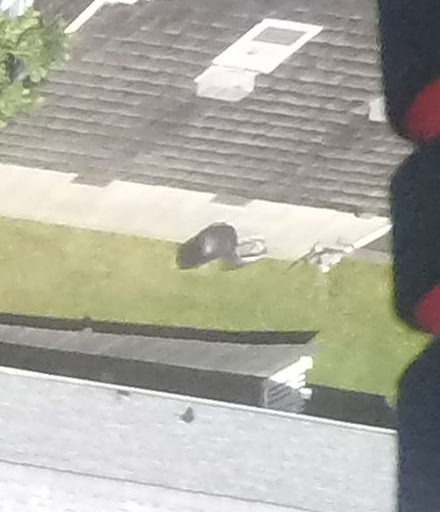container: (225, 230, 279, 276)
garbage bin: (175, 215, 238, 279)
